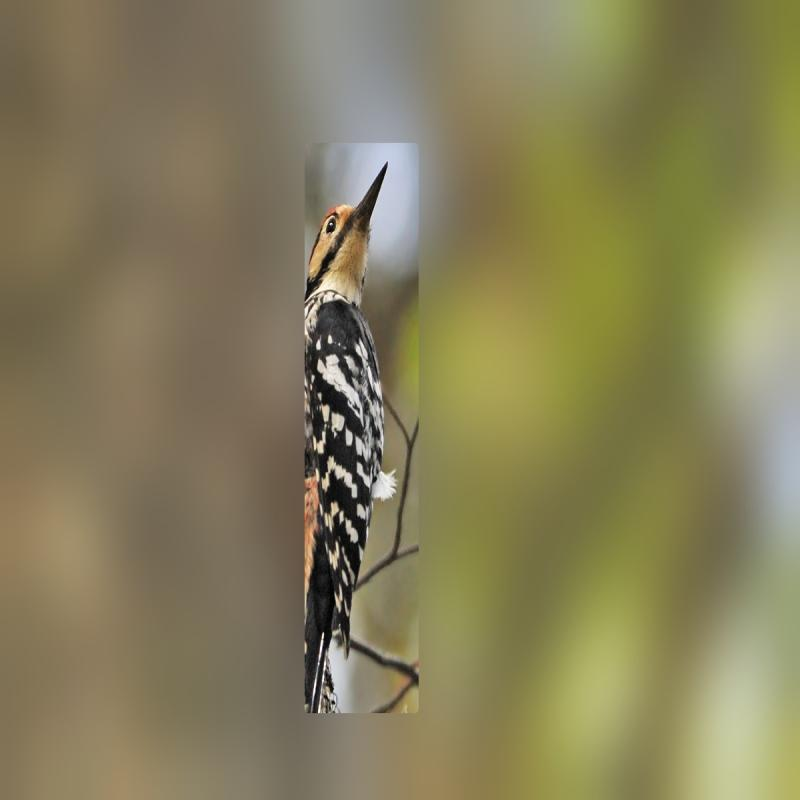white-backed woodpecker: (298, 147, 397, 709)
